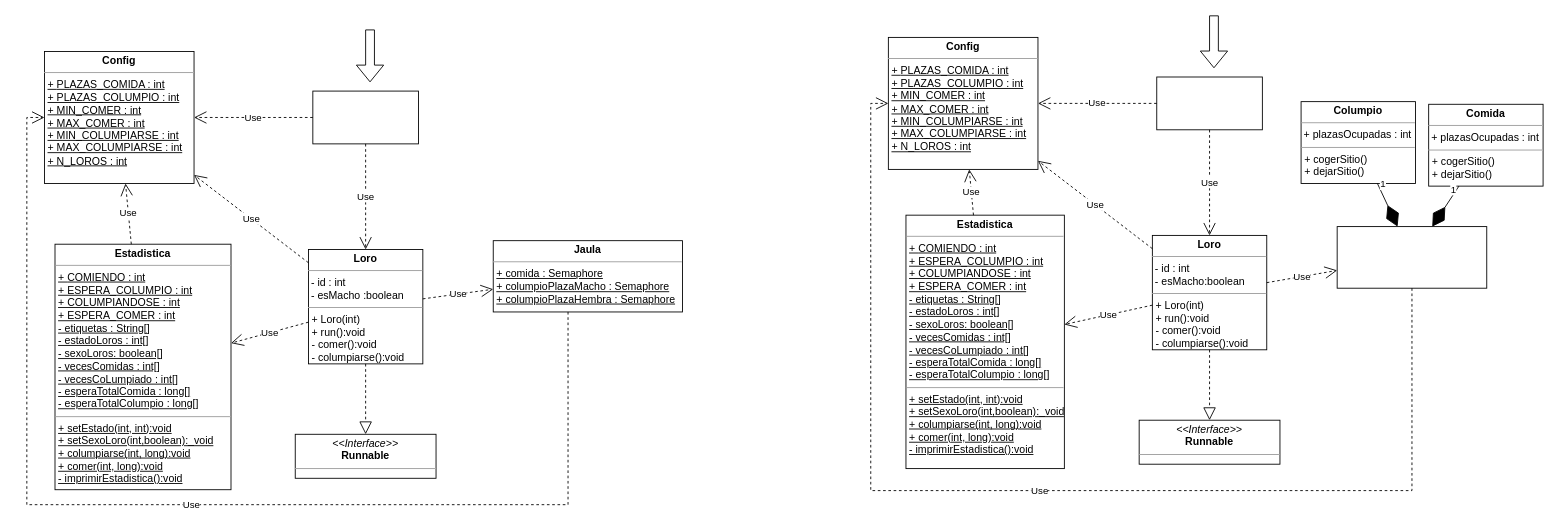
Image size: 1558x532. Some labels were removed from this diagram. The box of each missing label's shape, as (x1, y1, x2, y2) in pixels:
Jaula + comida : Comida + columpio : Columpio: (1336, 226, 1487, 288)
Reto7_3_A + main(String): (312, 90, 418, 144)
Reto7_3_B + main(String): (1156, 76, 1262, 130)
